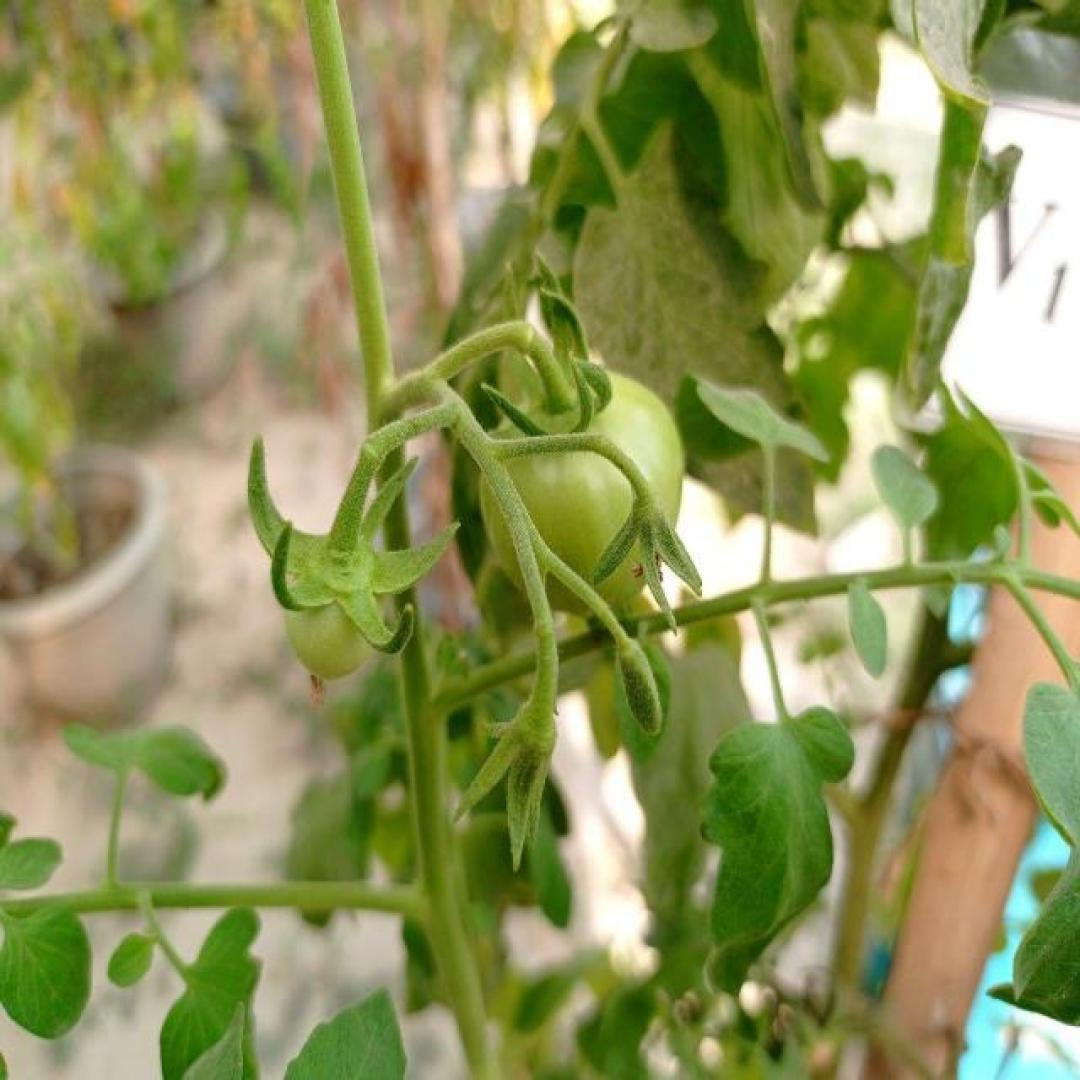mentah: (476, 366, 685, 614), (287, 552, 378, 680)
